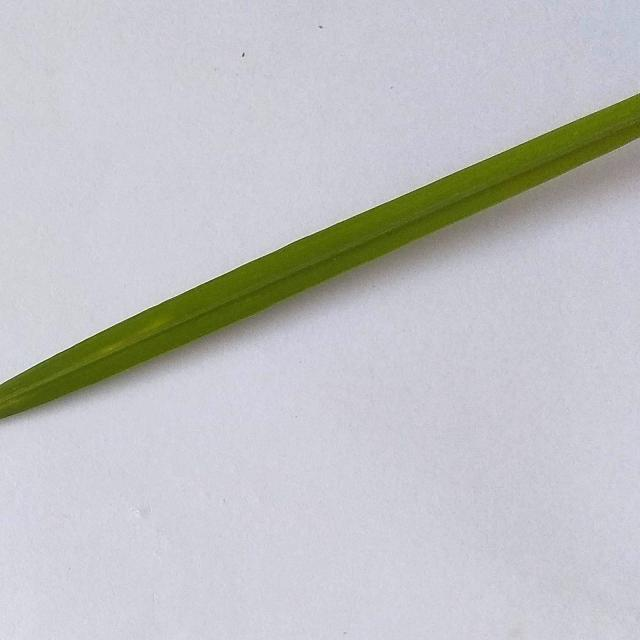healthy: (0, 63, 640, 443)
